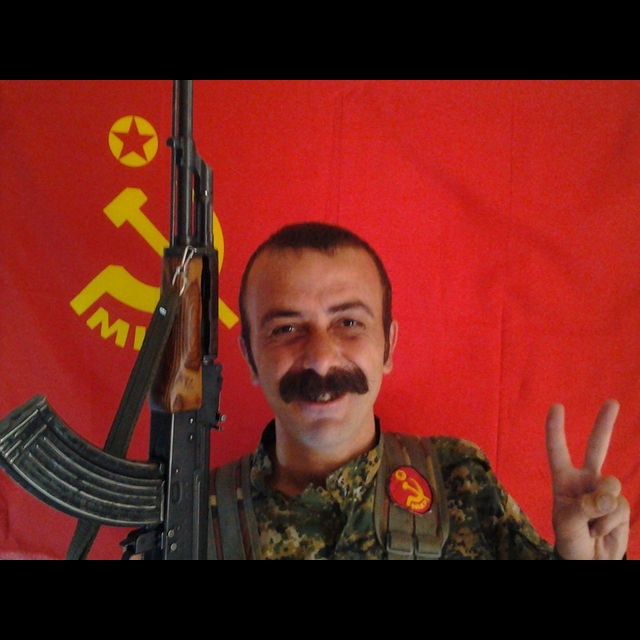MLKP: (383, 461, 441, 518)
ZI: (532, 378, 630, 561)
